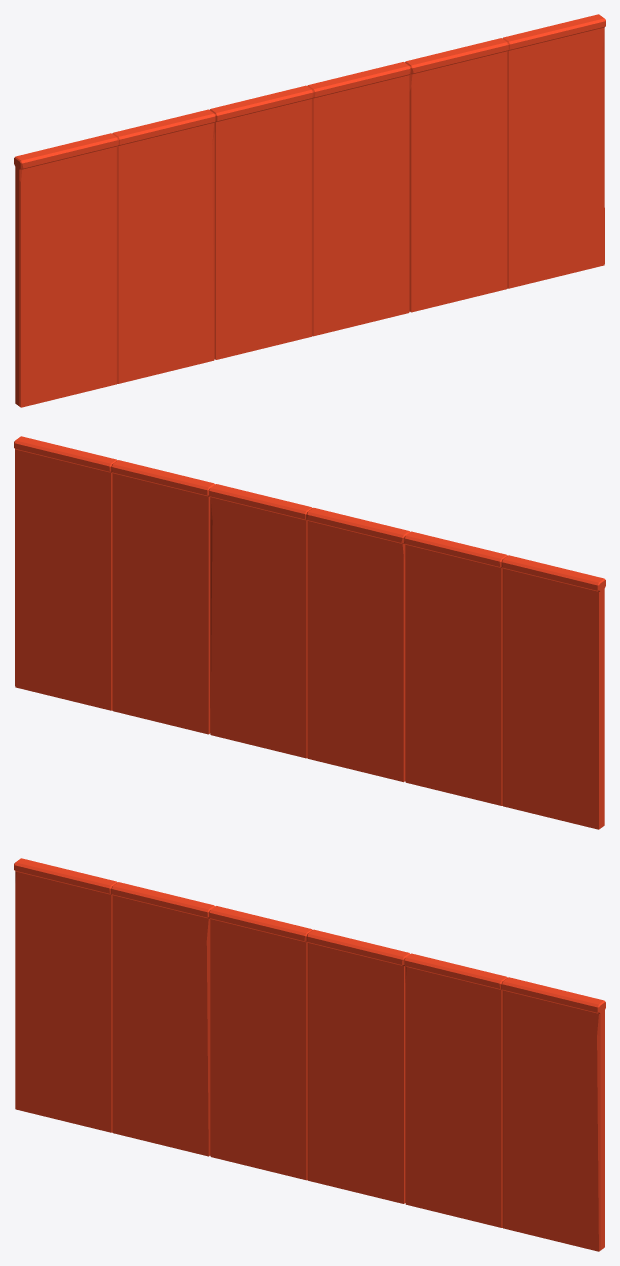
Rendered from SM_Wall_B_Straight_Long_City.fbx.
3 renders of one model, top to bottom at view 1: azimuth 30°, elevation 25°; view 2: azimuth 150°, elevation 25°; view 3: azimuth 330°, elevation 25°, orthographic.
Parts seen in each view (by area): view 1: SM_Wall_B_Straight_Long_City; view 2: SM_Wall_B_Straight_Long_City; view 3: SM_Wall_B_Straight_Long_City.
Part boxes in pixels (<box>): SM_Wall_B_Straight_Long_City: <box>14,14,605,407</box>; SM_Wall_B_Straight_Long_City: <box>14,436,605,829</box>; SM_Wall_B_Straight_Long_City: <box>14,858,605,1251</box>.
Size of the model in its own units: 30 by 12.1 by 0.7109.
